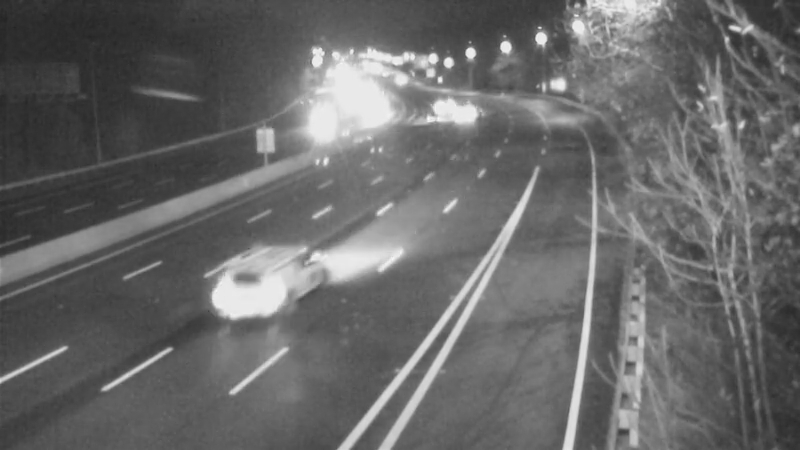vehicle: (213, 250, 293, 330), (413, 83, 463, 133), (436, 92, 486, 142), (408, 92, 458, 142), (297, 99, 347, 149)
